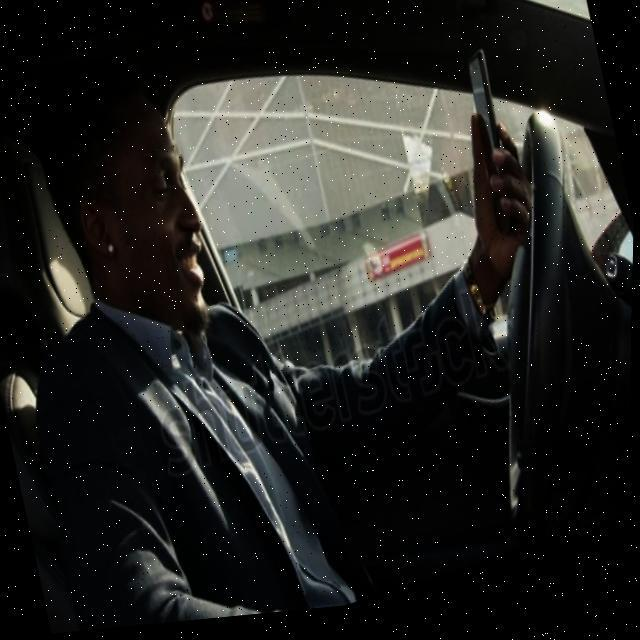PhoneCall: (451, 50, 526, 252)
